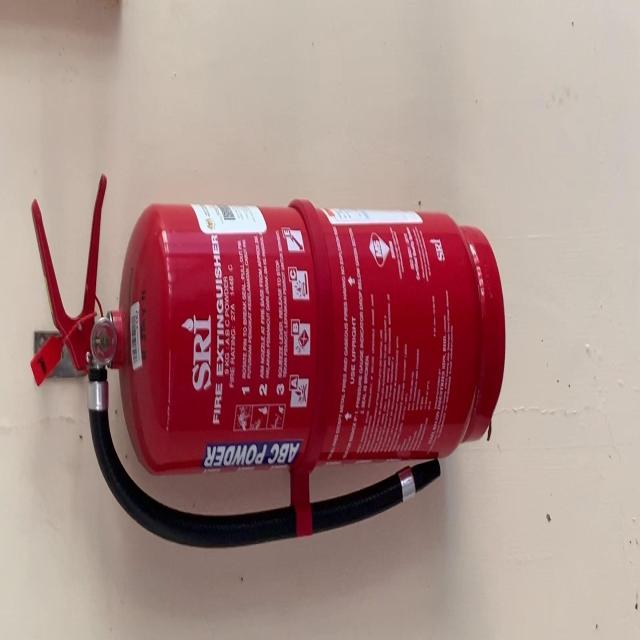fire_extinguisher: (24, 167, 509, 552)
